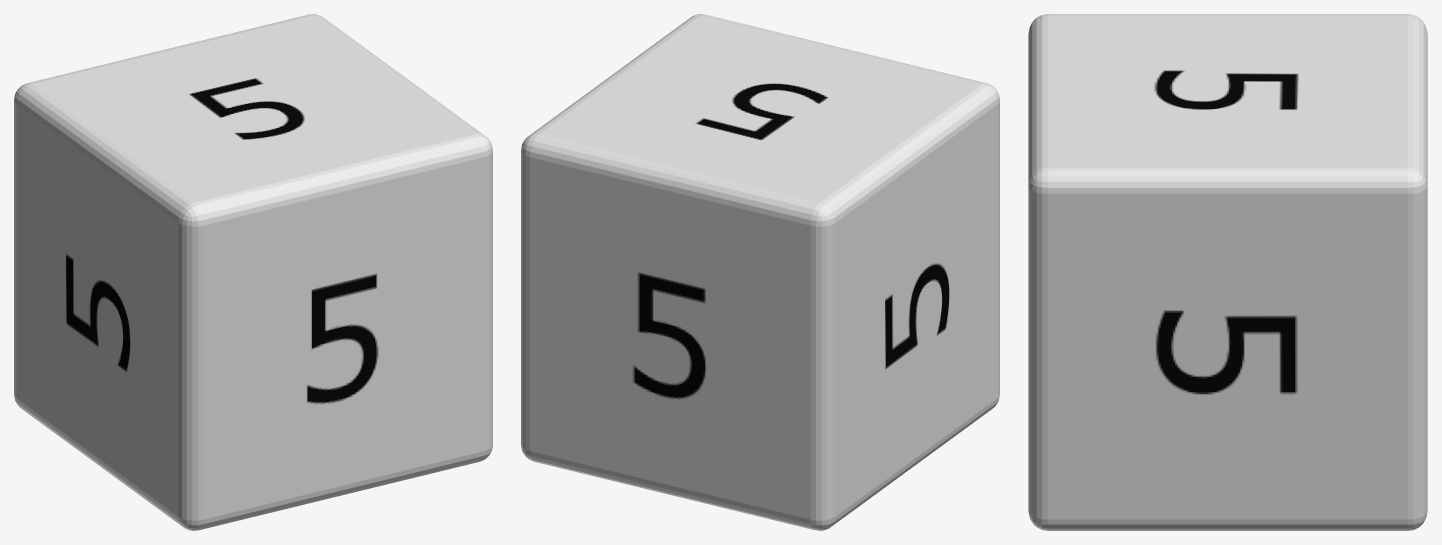
File: Key5.fbx
The picture shows the model from 3 angles, left to right: view 1: azimuth 30°, elevation 25°; view 2: azimuth 150°, elevation 25°; view 3: azimuth 270°, elevation 25°; orthographic projection. The views are drawn at different scales.
Visible parts, largest first — view 1: Cube; view 2: Cube; view 3: Cube.
Boxes of the visible parts, x1,y1,x2,y2 form: Cube: (14,14,492,530); Cube: (521,14,999,530); Cube: (1028,14,1427,530).
Bounding box in the file's own units: 200 × 200 × 200.
Materials: 1 (1 with a texture image).
